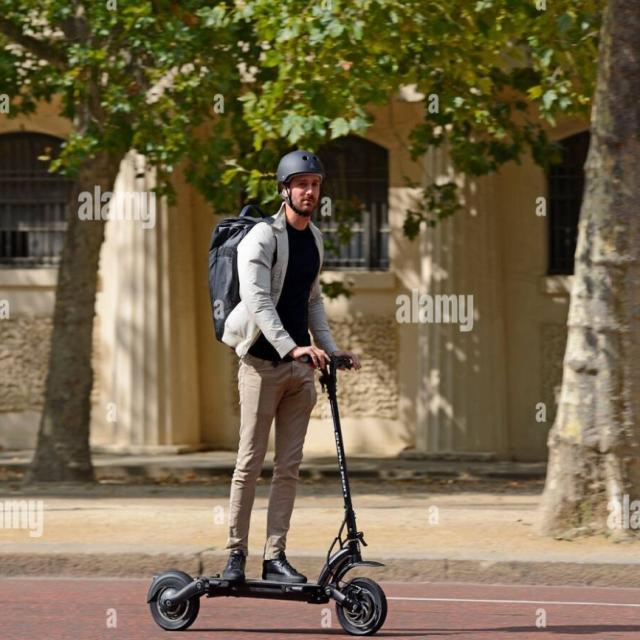helmet: (139, 144, 417, 635)
